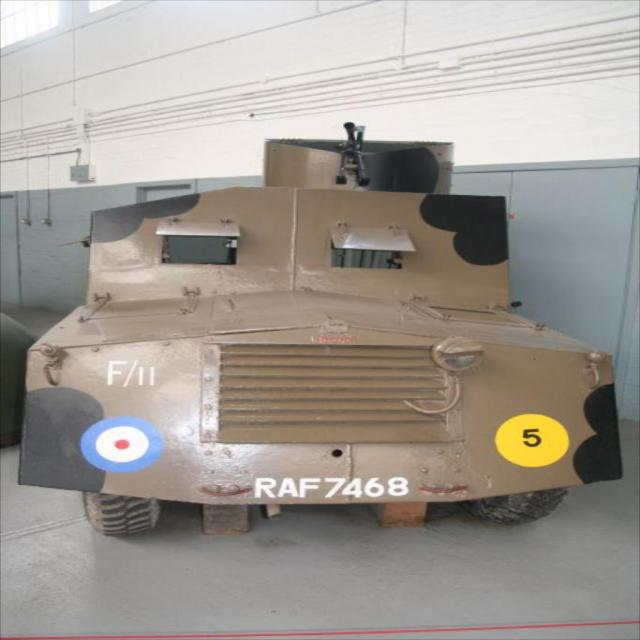tank: (19, 140, 631, 534)
